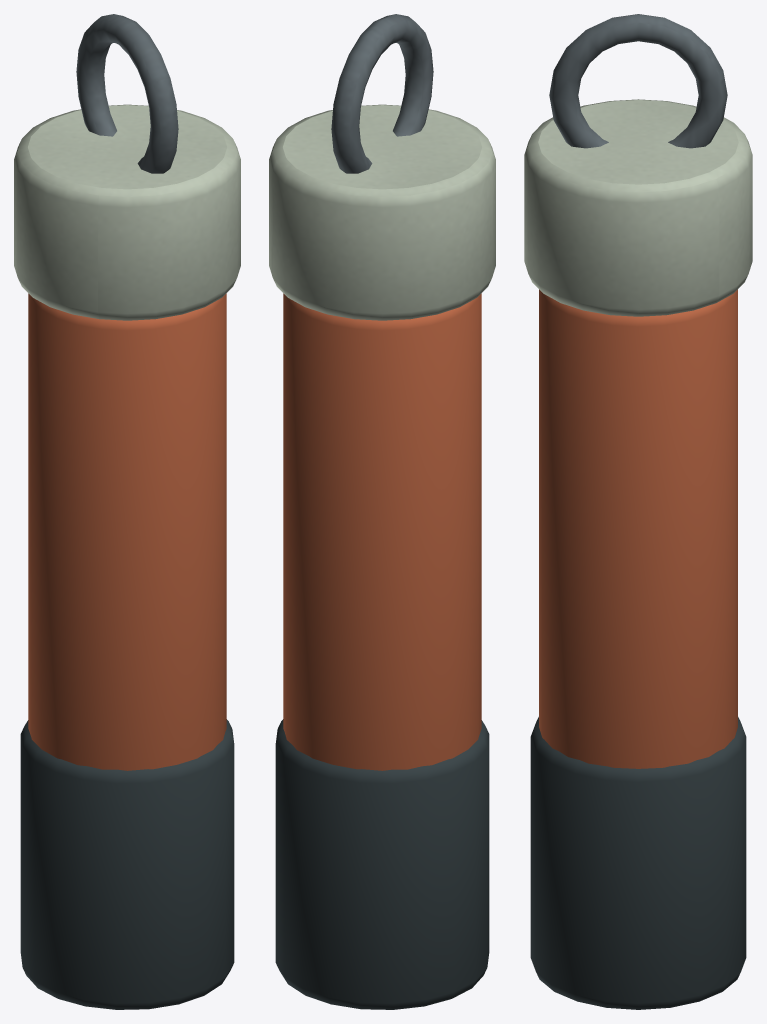
Rendered from IslandSignalFlare.fbx.
The picture shows the model from 3 angles, left to right: view 1: azimuth 30°, elevation 25°; view 2: azimuth 150°, elevation 25°; view 3: azimuth 270°, elevation 25°; orthographic projection.
Visible parts, largest first — view 1: IslandSignal_Surface.002__UnityExport, IslandDark_Surface.001__UnityExport, IslandClinic_Surface.003__UnityExport, IslandMetal_Surface.006__UnityExport; view 2: IslandSignal_Surface.002__UnityExport, IslandDark_Surface.001__UnityExport, IslandClinic_Surface.003__UnityExport, IslandMetal_Surface.006__UnityExport; view 3: IslandSignal_Surface.002__UnityExport, IslandDark_Surface.001__UnityExport, IslandClinic_Surface.003__UnityExport, IslandMetal_Surface.006__UnityExport.
Part boxes in pixels (<box>): IslandSignal_Surface.002__UnityExport: <box>28,293,226,770</box>; IslandDark_Surface.001__UnityExport: <box>20,719,234,1009</box>; IslandClinic_Surface.003__UnityExport: <box>14,104,240,320</box>; IslandMetal_Surface.006__UnityExport: <box>76,14,178,173</box>; IslandSignal_Surface.002__UnityExport: <box>283,293,481,770</box>; IslandDark_Surface.001__UnityExport: <box>275,719,489,1009</box>; IslandClinic_Surface.003__UnityExport: <box>269,104,495,320</box>; IslandMetal_Surface.006__UnityExport: <box>331,14,433,173</box>; IslandSignal_Surface.002__UnityExport: <box>539,289,737,768</box>; IslandDark_Surface.001__UnityExport: <box>530,717,746,1009</box>; IslandClinic_Surface.003__UnityExport: <box>524,99,752,316</box>; IslandMetal_Surface.006__UnityExport: <box>549,14,727,148</box>.
Bounding box in the file's own units: 0.11 × 0.508 × 0.11.
